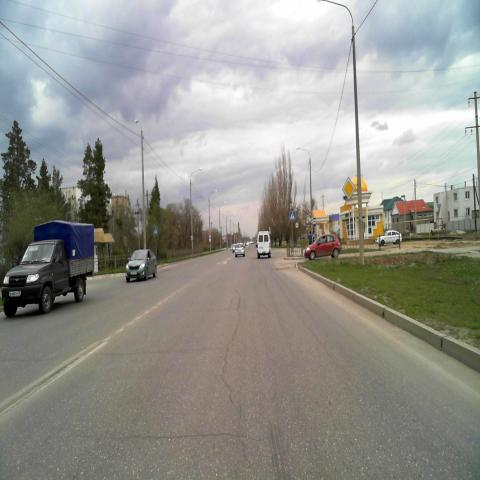2_1: (342, 176, 356, 200)
5_19_1: (289, 211, 295, 221), (154, 226, 158, 236)
